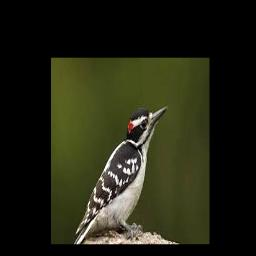Woodpecker: (73, 105, 167, 244)
